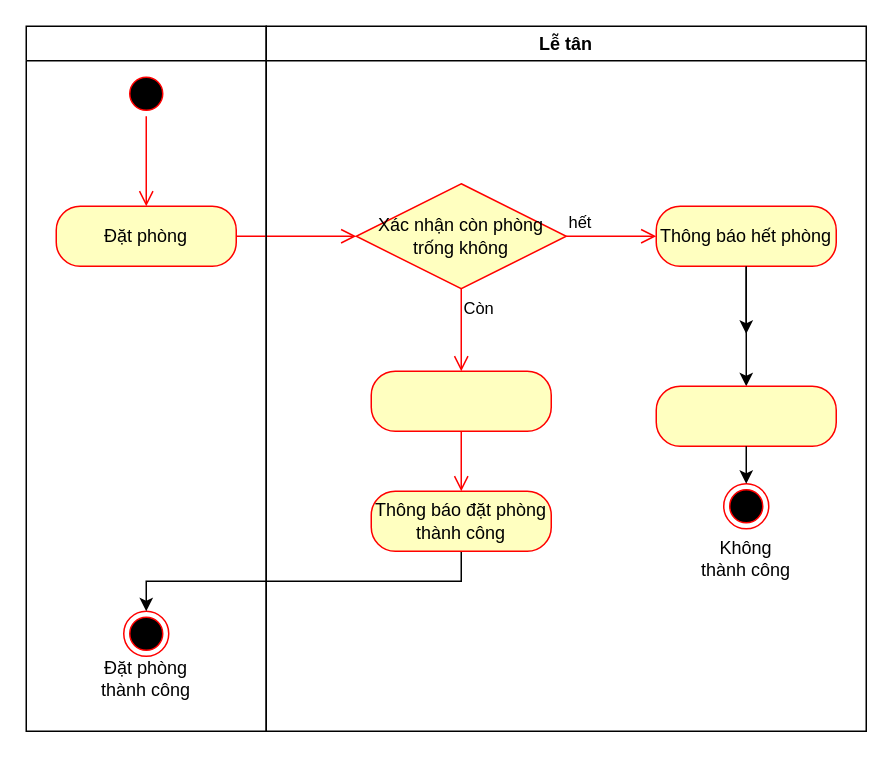
This 893x758 diagram has some shape labels left out. Here are the shapes that lost their labels. From the top down, the box of each, then its label:
(25, 25, 266, 731): Khách hàng
(370, 370, 551, 431): Xác nhận có bị trùng lịch không
(655, 385, 836, 446): Từ chối đặt phòng
